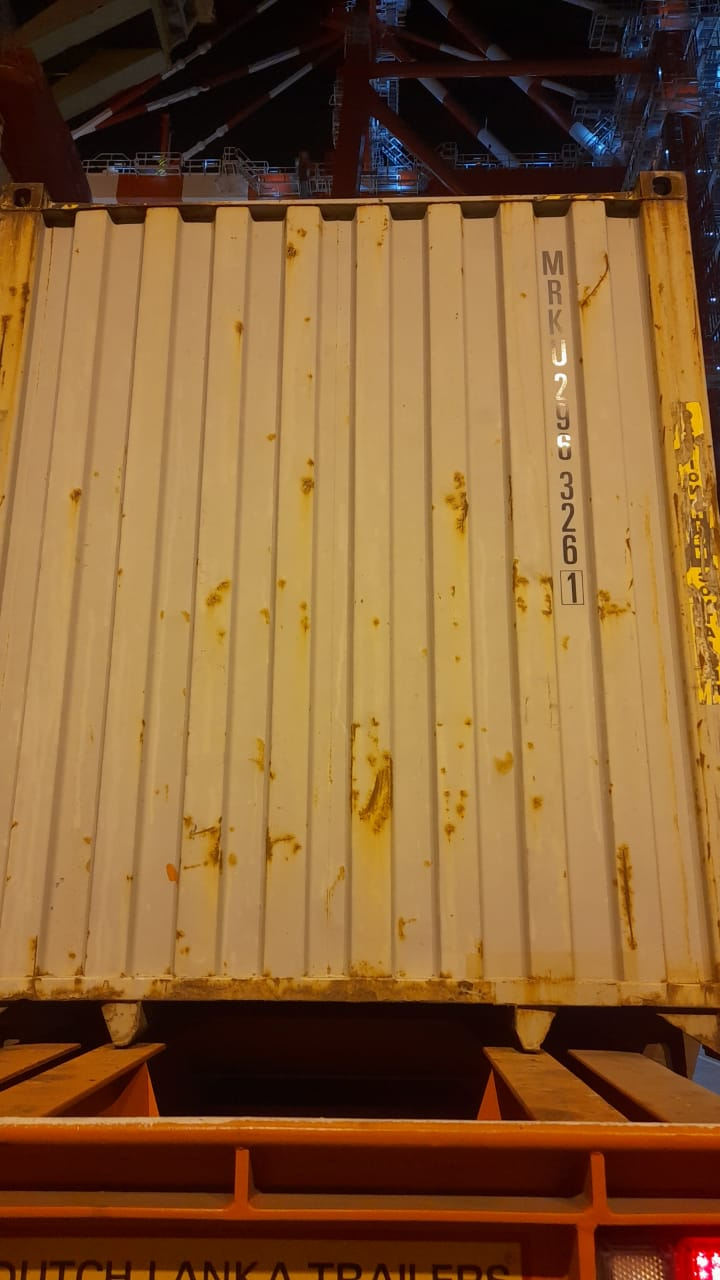front_side: (1, 178, 698, 1004)
